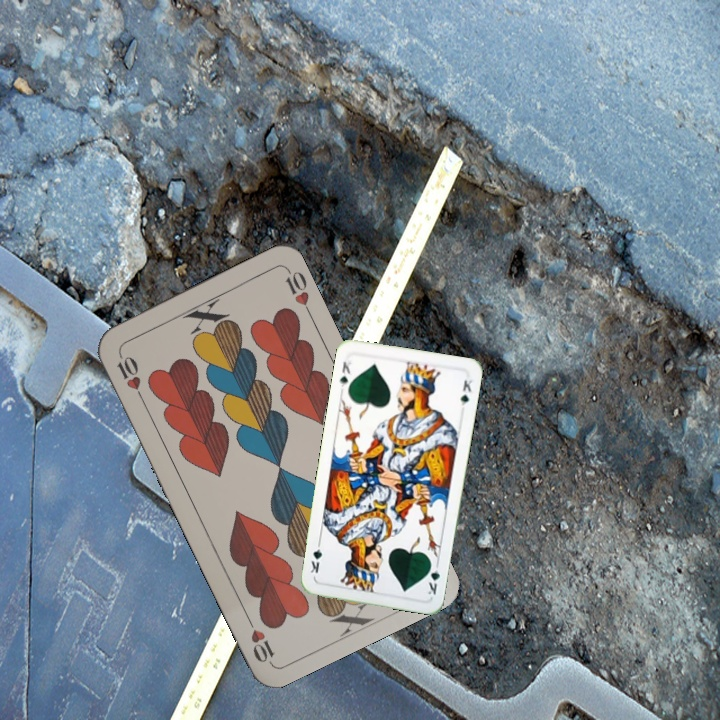GK: (424, 558, 443, 597), (336, 358, 354, 389)
H10: (113, 348, 147, 404)
